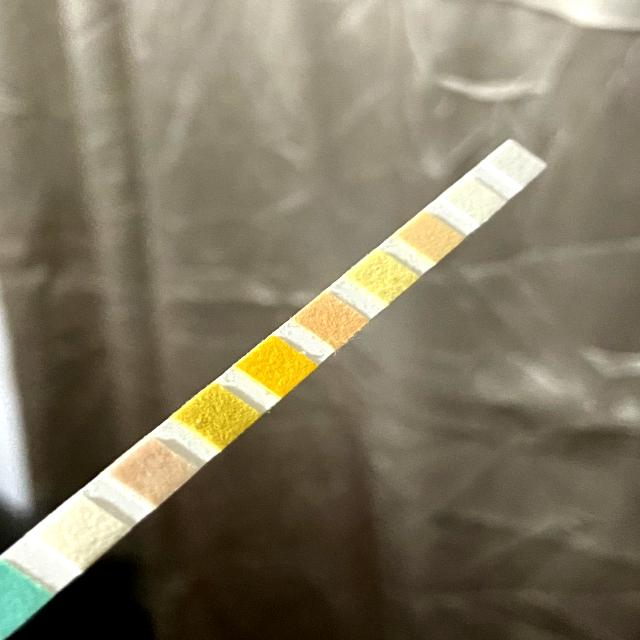Bilirubin: (49, 513, 109, 549)
Blood: (252, 350, 298, 380)
Glucose: (0, 579, 38, 613)
Ketone: (122, 454, 177, 490)
Leukocytes: (495, 152, 534, 172)
Nitrite: (450, 187, 494, 210)
Protein: (358, 262, 404, 288)
SpGravity: (193, 397, 241, 433)
Urobilinogen: (402, 225, 452, 247)
pH: (306, 304, 349, 333)
